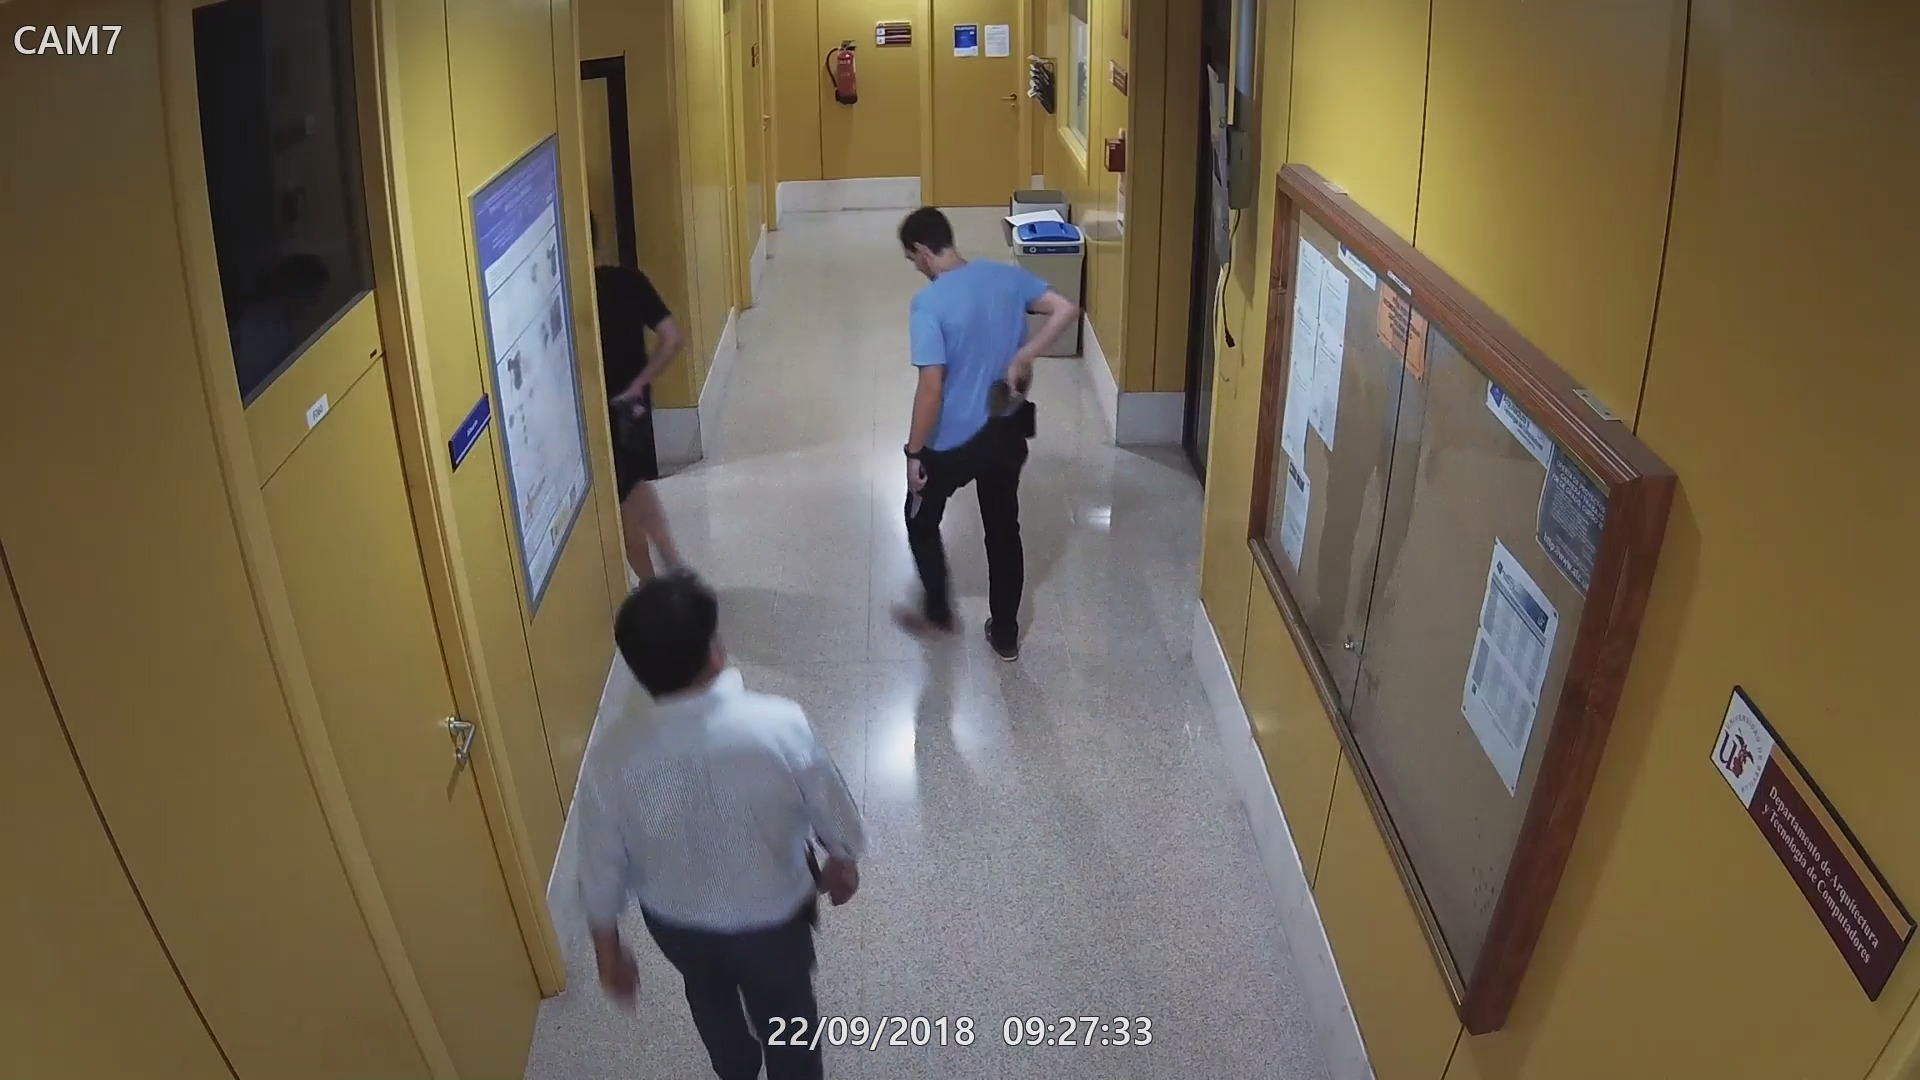Handgun: (984, 373, 1033, 427), (612, 392, 650, 447)
Knife: (909, 463, 938, 521)
